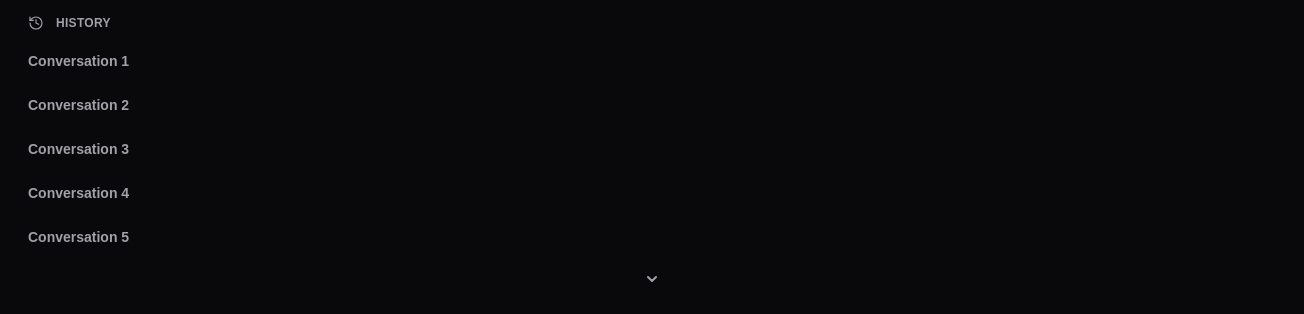
it: SessionHistorySidebar › renders sessions and show more expands the list
The width and height of the screenshot is (1304, 314).
Expected: the text "Conversation 1" is shown, [28,53,129,69]
Expected: the text "Conversation 5" is shown, [28,229,129,245]
Click the button named "Show more conversations" at (652, 279), box [12,261,1292,297]
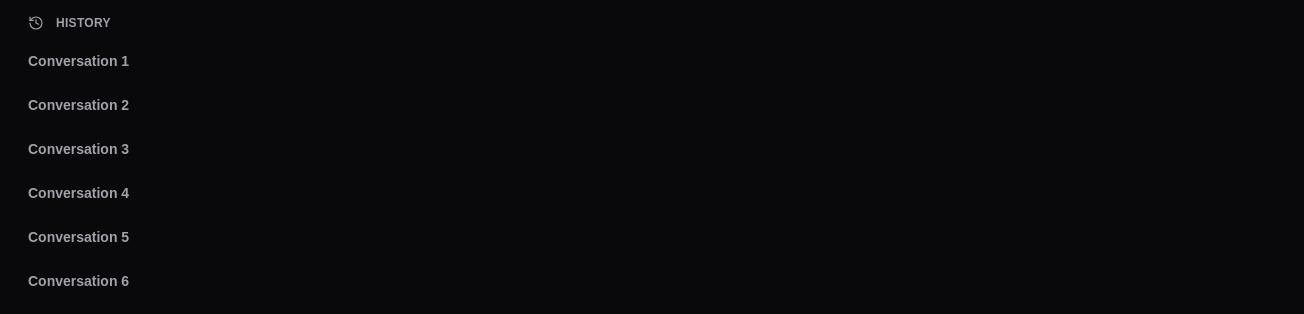
Expected: the text "Conversation 6" is shown, [28,273,129,289]
